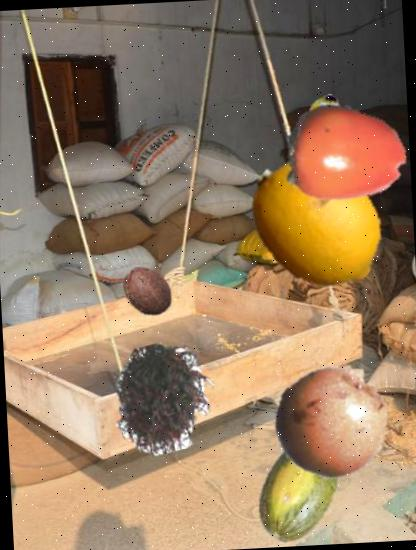Banana: (276, 90, 370, 186)
Cocos: (119, 262, 177, 320)
Granadilla: (270, 361, 391, 482)
Kaki: (279, 86, 412, 218)
Lemon: (241, 146, 393, 298)
Melon: (243, 436, 353, 546)
Rambutan: (106, 340, 220, 456)
